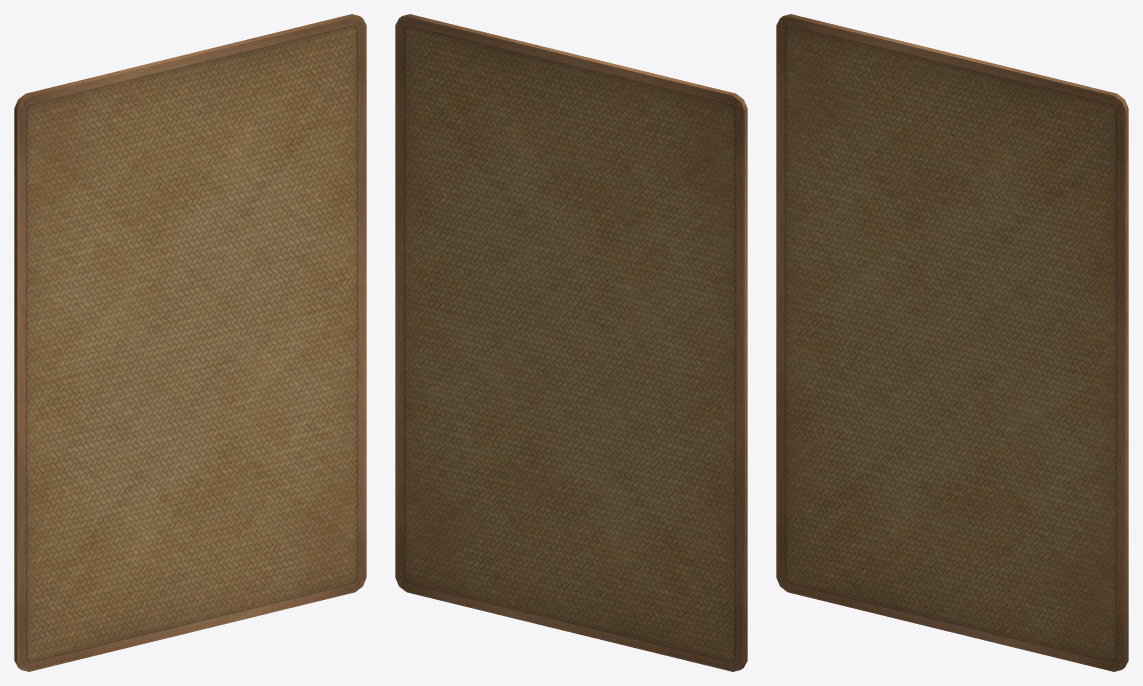
Rendered from Furniture_02_d.FBX.
3 renders of one model, left to right at view 1: azimuth 30°, elevation 25°; view 2: azimuth 150°, elevation 25°; view 3: azimuth 330°, elevation 25°, orthographic.
Parts seen in each view (by area): view 1: Furniture_02_d; view 2: Furniture_02_d; view 3: Furniture_02_d.
Part boxes in pixels (x1=…): Furniture_02_d: x1=14, y1=14, x2=366, y2=671; Furniture_02_d: x1=395, y1=14, x2=747, y2=671; Furniture_02_d: x1=776, y1=14, x2=1128, y2=671.
Size of the model in its own units: 129 by 203 by 1.93.
